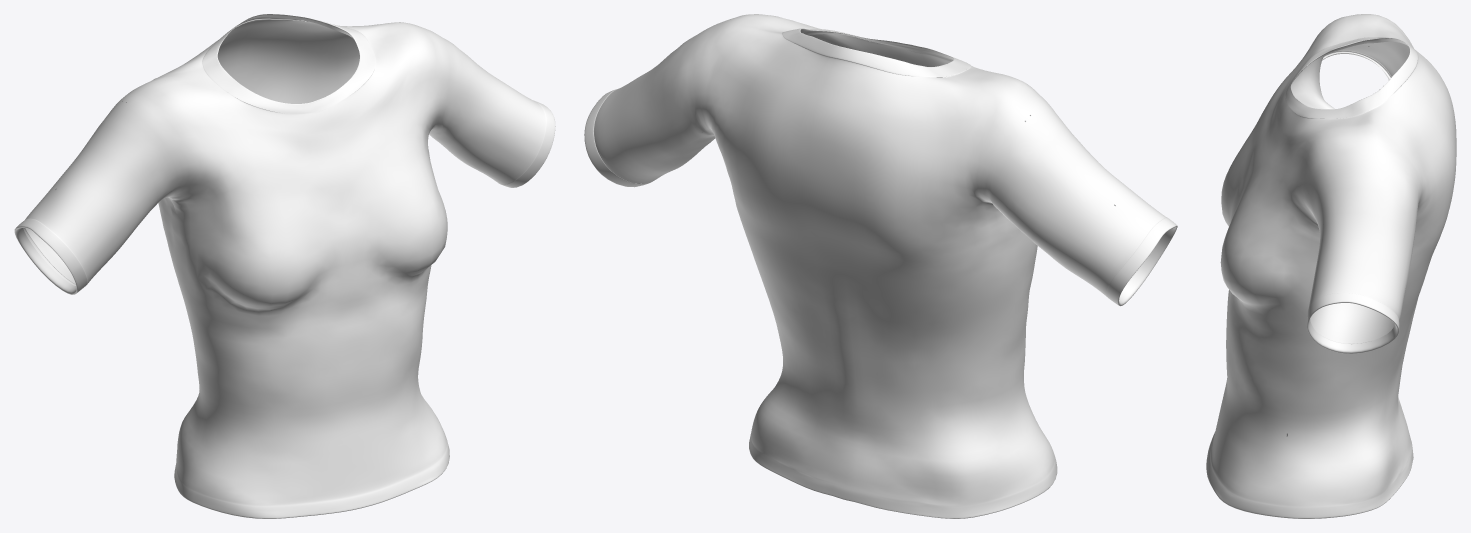
The model's file is Shirt.glb.
3 renders of one model, left to right at view 1: azimuth 30°, elevation 25°; view 2: azimuth 150°, elevation 25°; view 3: azimuth 270°, elevation 25°, orthographic. The views are drawn at different scales.
Parts seen in each view (by area): view 1: TShirt_for_Genesis.002; view 2: TShirt_for_Genesis.002; view 3: TShirt_for_Genesis.002.
Boxes of the visible parts, x1=… form: TShirt_for_Genesis.002: x1=14, y1=14, x2=555, y2=518; TShirt_for_Genesis.002: x1=584, y1=14, x2=1177, y2=518; TShirt_for_Genesis.002: x1=1206, y1=14, x2=1456, y2=518.
Size of the model in its own units: 12.36 by 9.59 by 5.26.
1 material, 1 textured.
